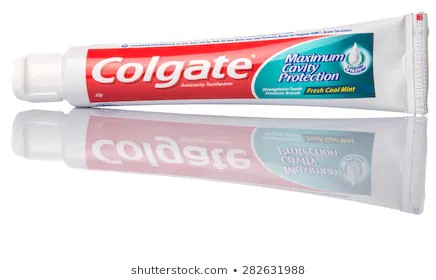colgate-small: (12, 14, 429, 105)
